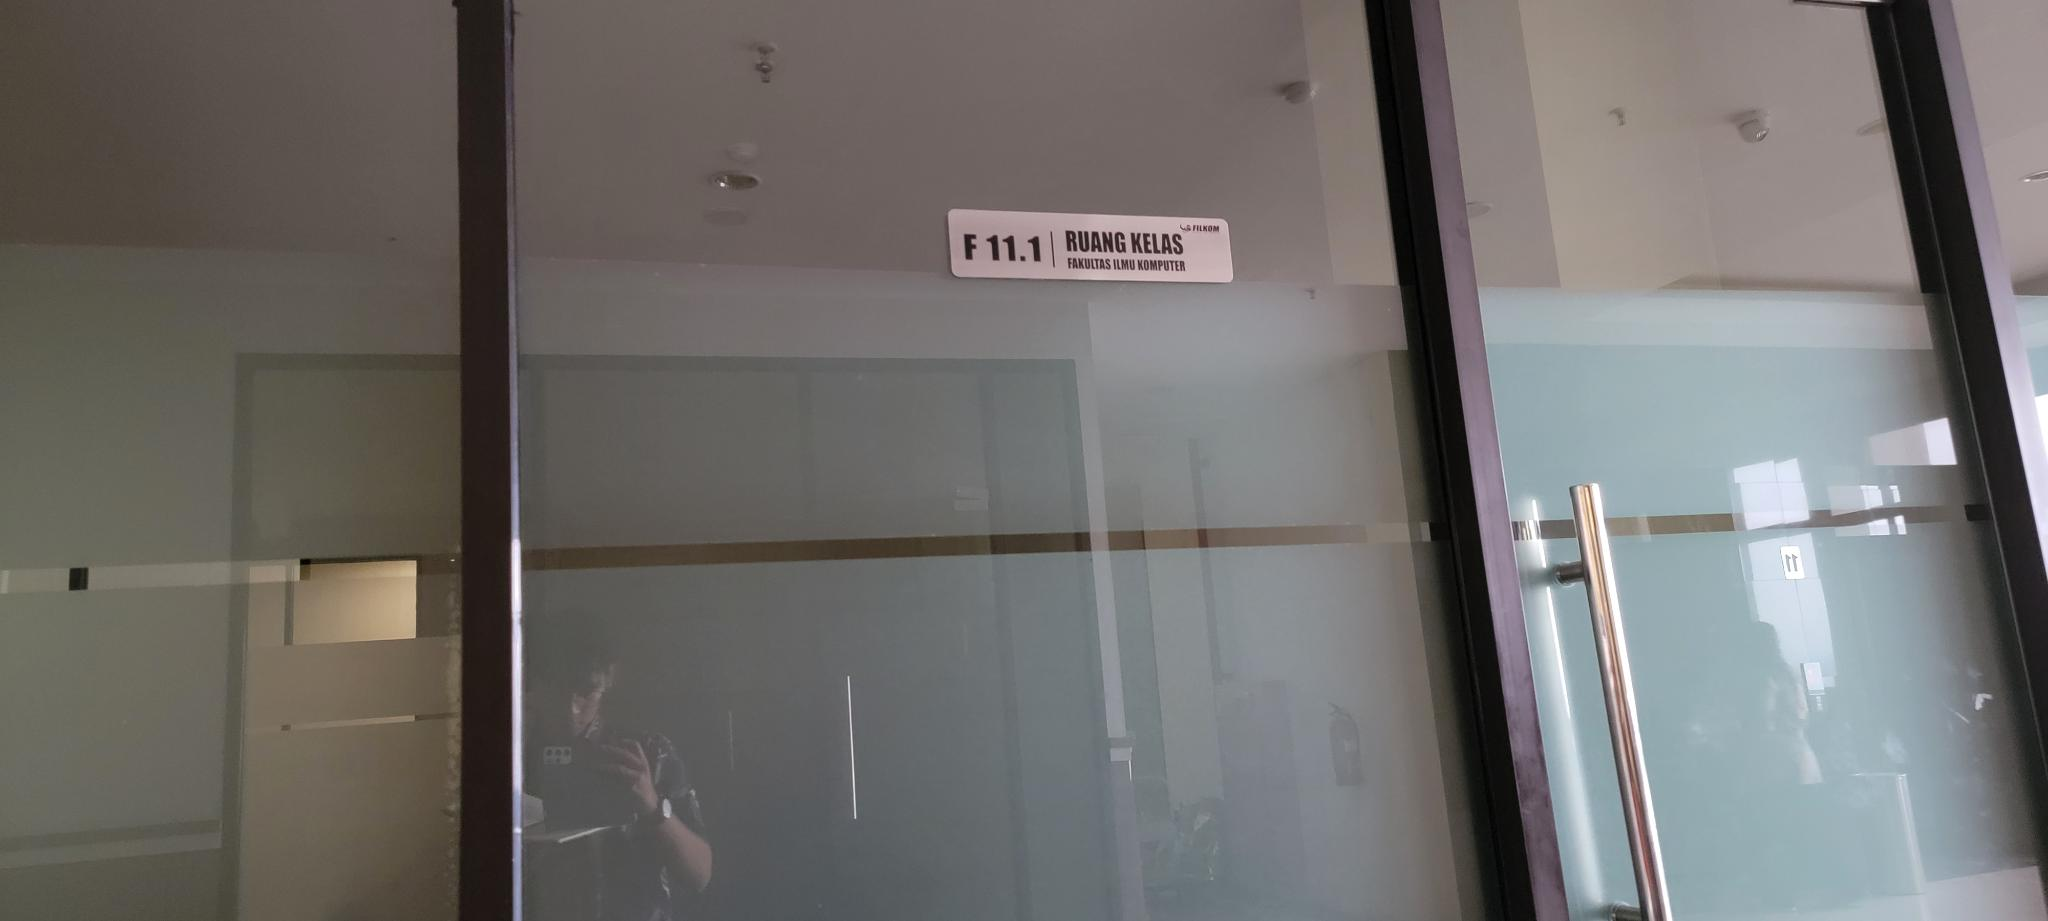plate: (947, 204, 1238, 286)
